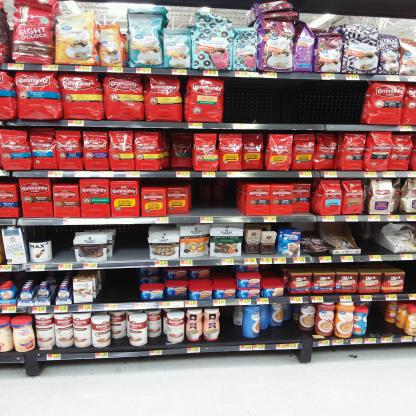Void: (231, 78, 361, 122), (192, 184, 240, 212), (97, 272, 140, 300), (115, 228, 149, 259), (165, 132, 192, 169), (362, 221, 386, 252), (55, 229, 76, 260), (266, 327, 300, 340), (223, 311, 237, 340), (371, 307, 379, 334), (214, 268, 236, 276), (264, 268, 278, 275)
